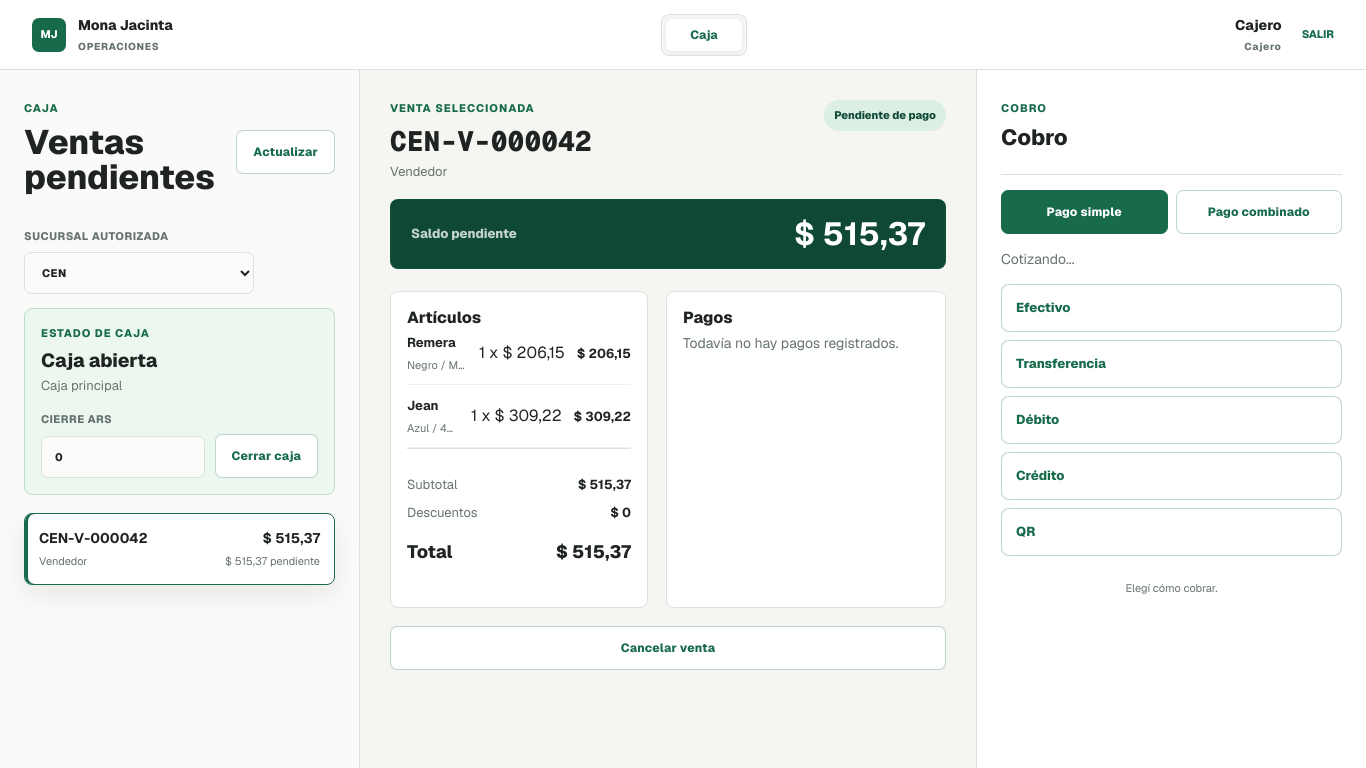
Test: R3-A4.2b — cotización › cotiza la composición por defecto y muestra total, saldo, desglose y medios del servidor
The image size is (1366, 768).
expect the heading "Ventas pendientes" is shown: met, box top-left (24, 124), bottom-right (236, 196)
expect the heading "CEN-V-000042" is shown: met, box top-left (390, 124), bottom-right (592, 157)
Click the button "Pago combinado": coordinates (1259, 212) top-left (1176, 190), bottom-right (1342, 234)
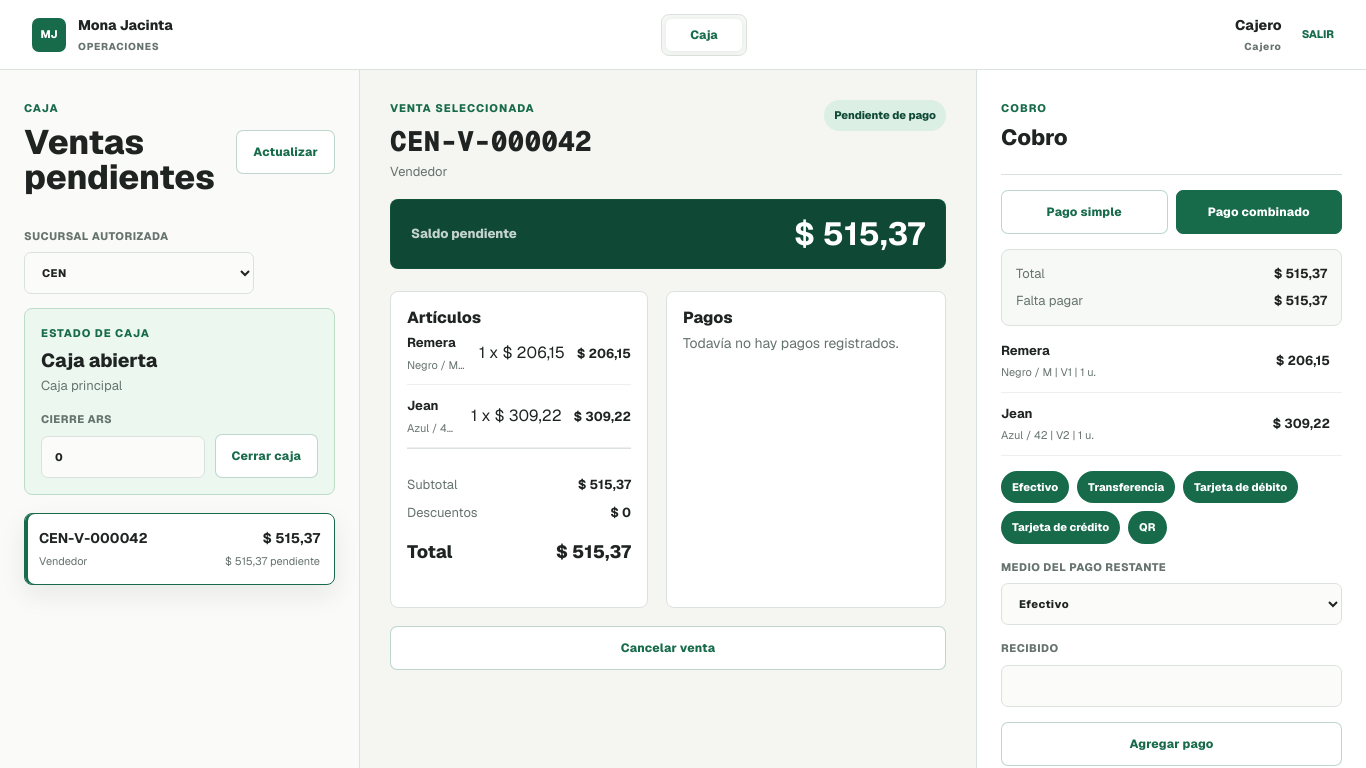
expect the text with test id "proportional-total" shows "515,37": met, box top-left (1274, 265), bottom-right (1327, 282)
expect the text with test id "proportional-balance" shows "515,37": met, box top-left (1274, 292), bottom-right (1327, 309)
expect the text "Remera" below "Falta pagar" is shown: met, box top-left (1001, 342), bottom-right (1050, 359)
